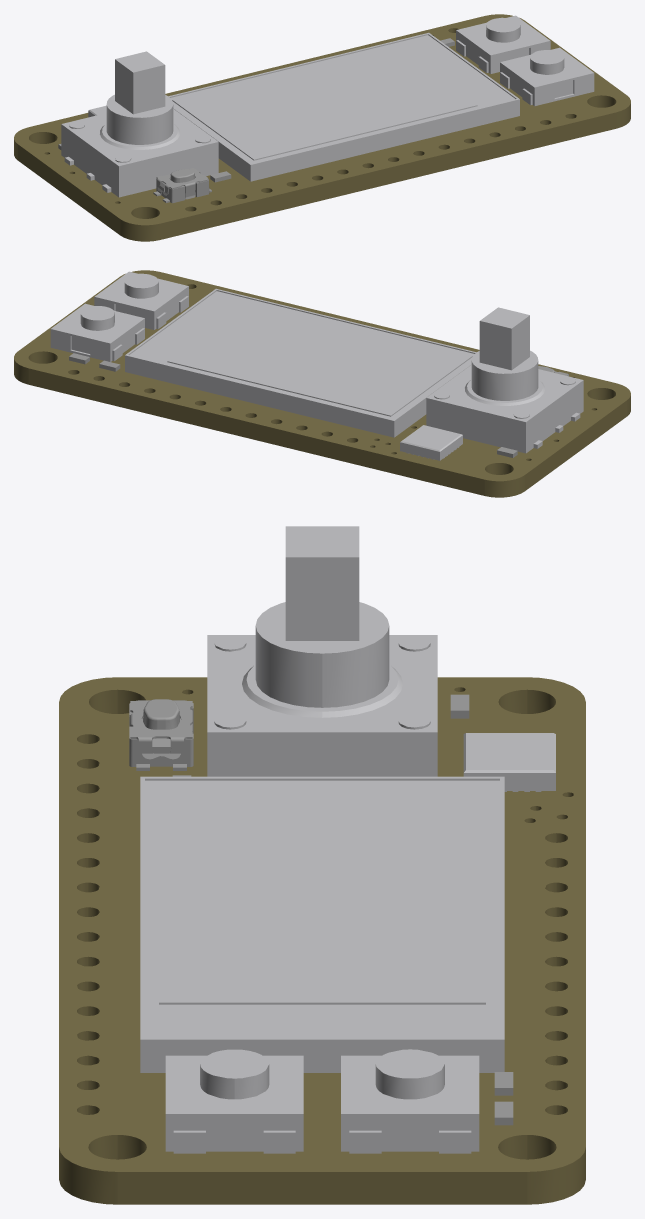
The model's file is ada-3321.glb.
3 views of the same model, one above another, from view 1: azimuth 30°, elevation 25°; view 2: azimuth 150°, elevation 25°; view 3: azimuth 270°, elevation 25° (orthographic). The views are drawn at different scales.
Visible parts, largest first — view 1: 0.5833333333333334_0.5833333333333334_0.5833333333333334_0.8, 0.16666666666666666_0.16666666666666666_0.08333333333333333_, 0.3333333333333333_0.3333333333333333_0.3333333333333333_0; view 2: 0.5833333333333334_0.5833333333333334_0.5833333333333334_0.8, 0.16666666666666666_0.16666666666666666_0.08333333333333333_, 0.3333333333333333_0.3333333333333333_0.3333333333333333_0; view 3: 0.5833333333333334_0.5833333333333334_0.5833333333333334_0.8, 0.16666666666666666_0.16666666666666666_0.08333333333333333_, 0.3333333333333333_0.3333333333333333_0.3333333333333333_0.
Boxes of the visible parts, x1,y1,x2,y2 form: 0.5833333333333334_0.5833333333333334_0.5833333333333334_0.8: [61, 15, 594, 197]; 0.16666666666666666_0.16666666666666666_0.08333333333333333_: [14, 14, 630, 241]; 0.3333333333333333_0.3333333333333333_0.3333333333333333_0: [58, 38, 454, 203]; 0.5833333333333334_0.5833333333333334_0.5833333333333334_0.8: [50, 271, 583, 460]; 0.16666666666666666_0.16666666666666666_0.08333333333333333_: [14, 270, 630, 497]; 0.3333333333333333_0.3333333333333333_0.3333333333333333_0: [69, 353, 568, 457]; 0.5833333333333334_0.5833333333333334_0.5833333333333334_0.8: [140, 526, 555, 1153]; 0.16666666666666666_0.16666666666666666_0.08333333333333333_: [59, 677, 585, 1204]; 0.3333333333333333_0.3333333333333333_0.3333333333333333_0: [129, 694, 513, 1125].
Bounding box in the file's own units: 5.08 × 1.14 × 2.29.
